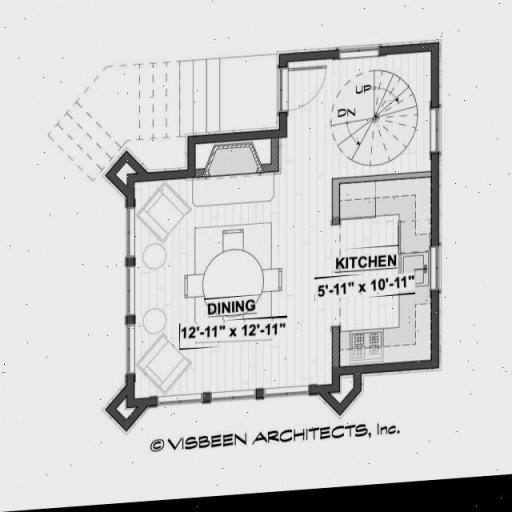Room: (139, 178, 333, 402)
kitchen: (337, 186, 432, 375)
